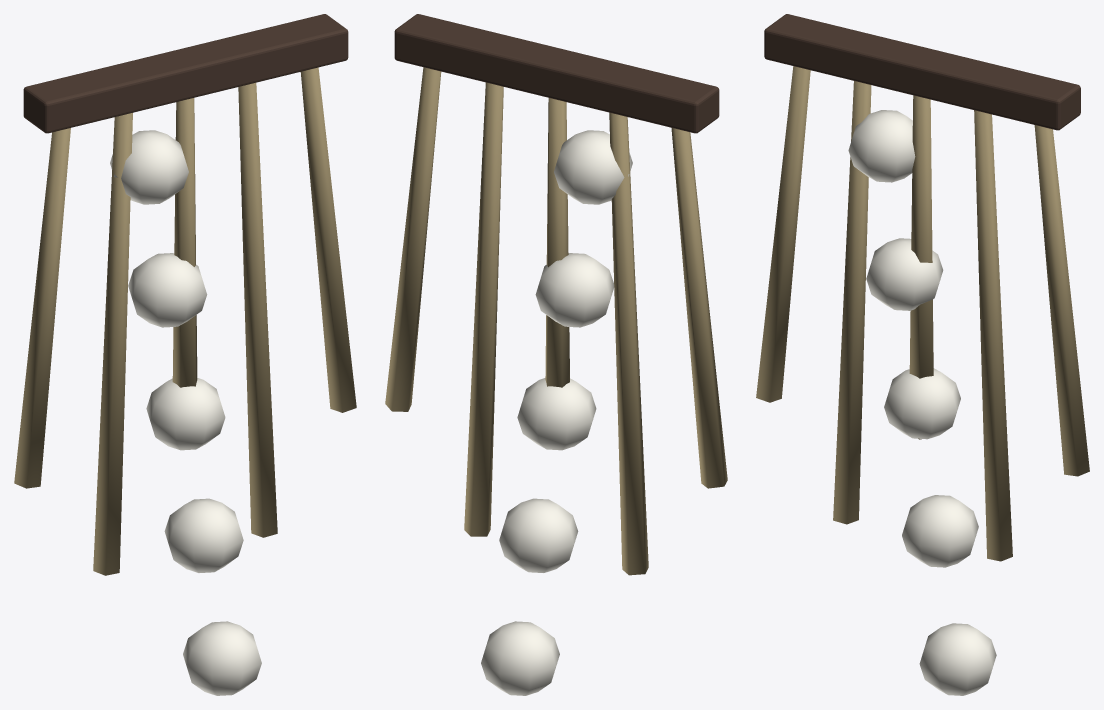
The model's file is hanging_herbs_garlic_braid.glb.
3 views of the same model, side by side, from view 1: azimuth 30°, elevation 25°; view 2: azimuth 150°, elevation 25°; view 3: azimuth 330°, elevation 25° (orthographic). The views are drawn at different scales.
Visible parts, largest first — view 1: GD_hanging_herbs_garlic_braid__m1, GD_hanging_herbs_garlic_braid__m2, GD_hanging_herbs_garlic_braid__m0; view 2: GD_hanging_herbs_garlic_braid__m1, GD_hanging_herbs_garlic_braid__m2, GD_hanging_herbs_garlic_braid__m0; view 3: GD_hanging_herbs_garlic_braid__m1, GD_hanging_herbs_garlic_braid__m2, GD_hanging_herbs_garlic_braid__m0.
Part boxes in pixels (bbox=[...]): GD_hanging_herbs_garlic_braid__m1: bbox=[14, 67, 356, 575]; GD_hanging_herbs_garlic_braid__m2: bbox=[110, 130, 261, 695]; GD_hanging_herbs_garlic_braid__m0: bbox=[23, 14, 348, 133]; GD_hanging_herbs_garlic_braid__m1: bbox=[385, 67, 727, 575]; GD_hanging_herbs_garlic_braid__m2: bbox=[481, 130, 632, 695]; GD_hanging_herbs_garlic_braid__m0: bbox=[394, 14, 719, 133]; GD_hanging_herbs_garlic_braid__m1: bbox=[756, 66, 1089, 561]; GD_hanging_herbs_garlic_braid__m2: bbox=[848, 110, 996, 695]; GD_hanging_herbs_garlic_braid__m0: bbox=[764, 14, 1080, 130].
Size of the model in its own units: 0.3347 by 0.6065 by 0.07.
